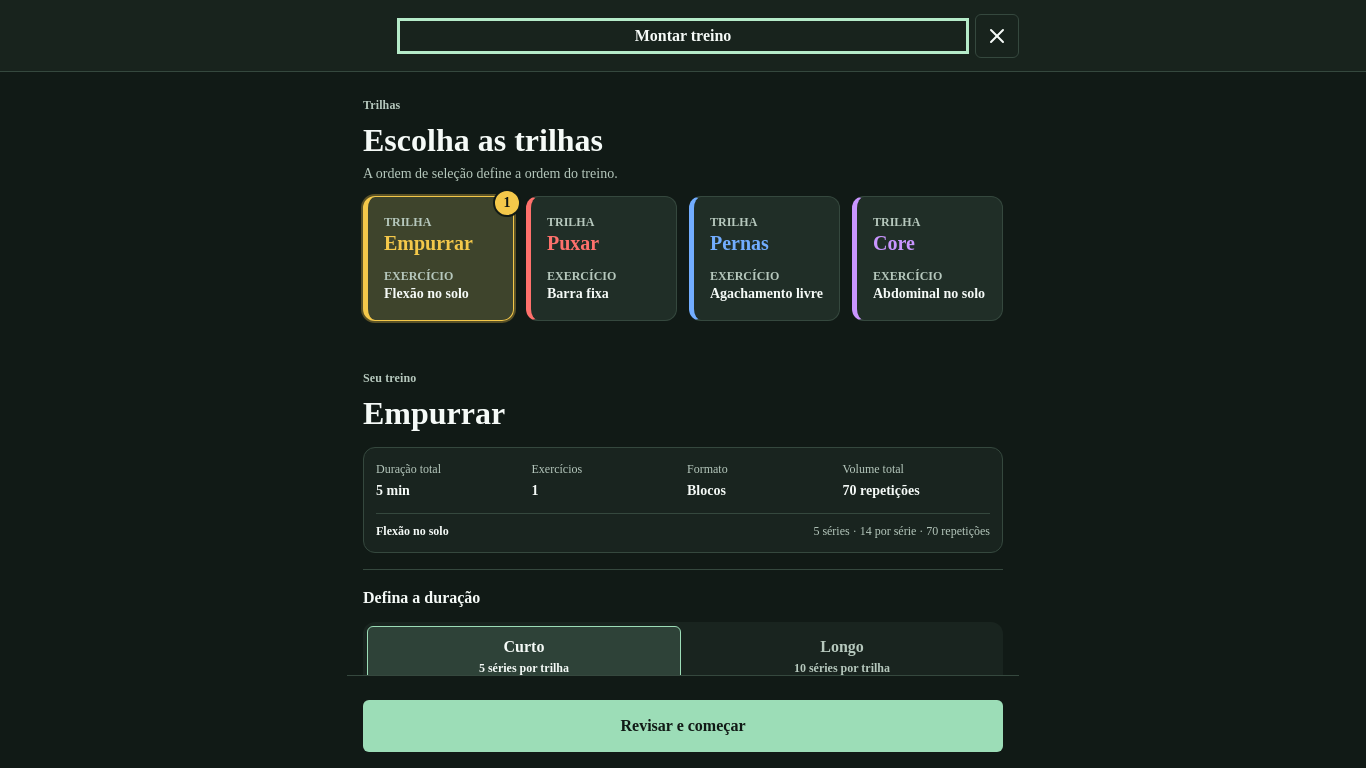
Test: WorkoutFlow › confirma, restaura foco ao fechar e inicia o cronômetro
The width and height of the screenshot is (1366, 768).
Click the button "Revisar e começar" at [683, 726], box [363,700,1003,752]
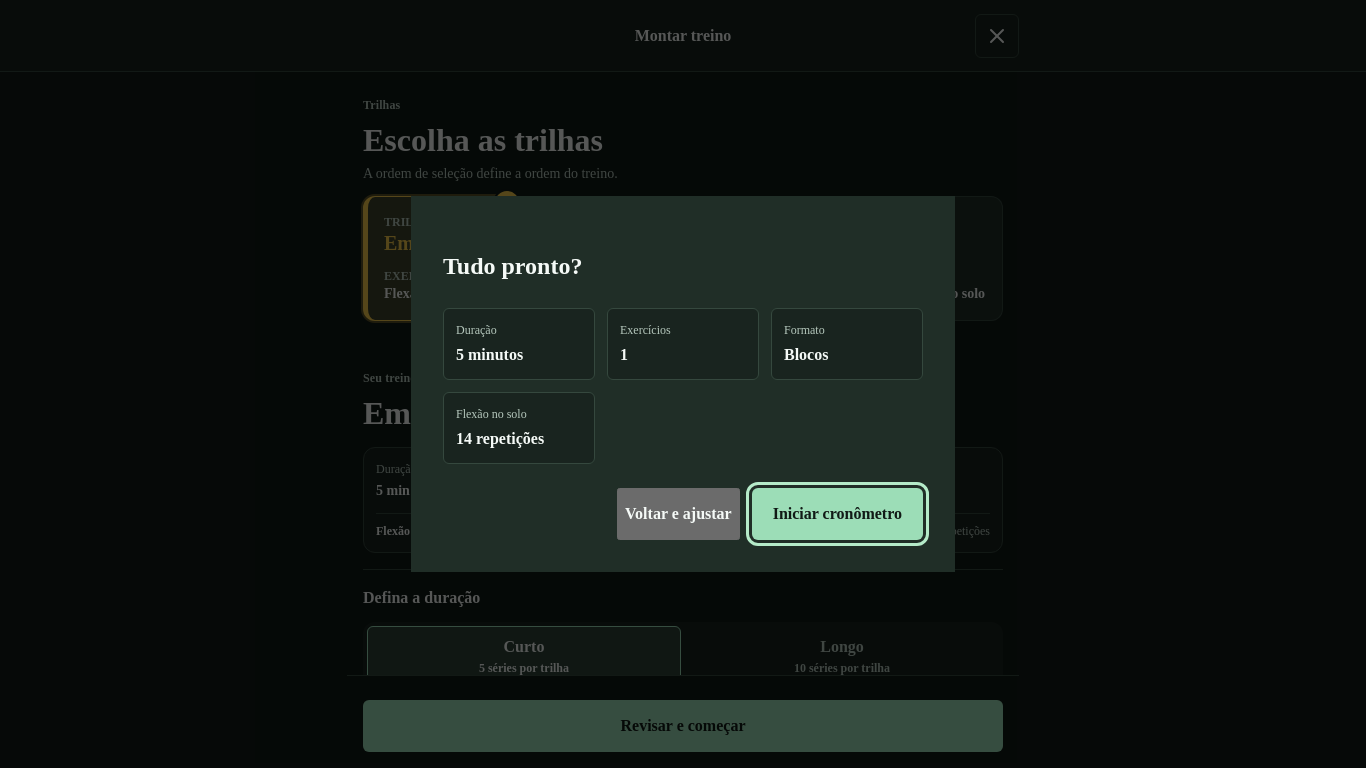
Press Escape
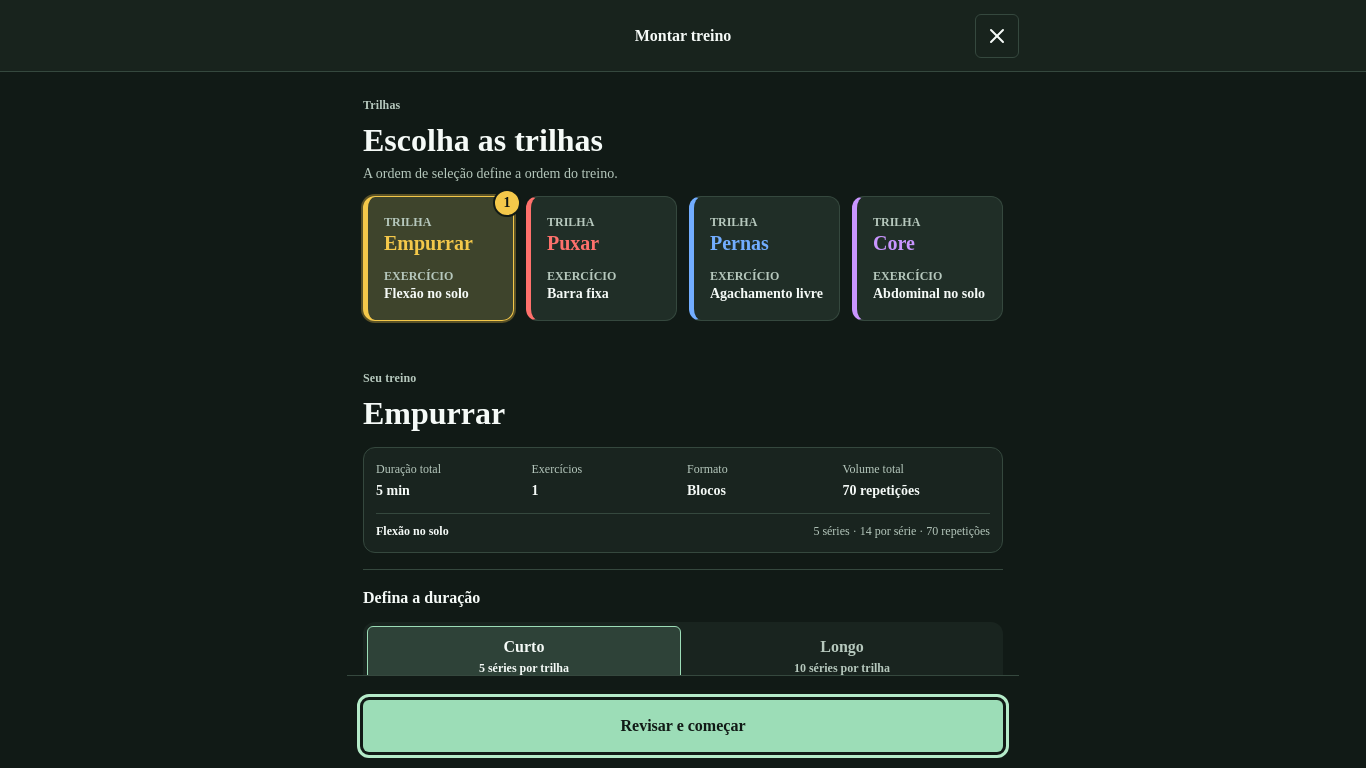
Click the button "Revisar e começar" at [683, 726], box [363,700,1003,752]
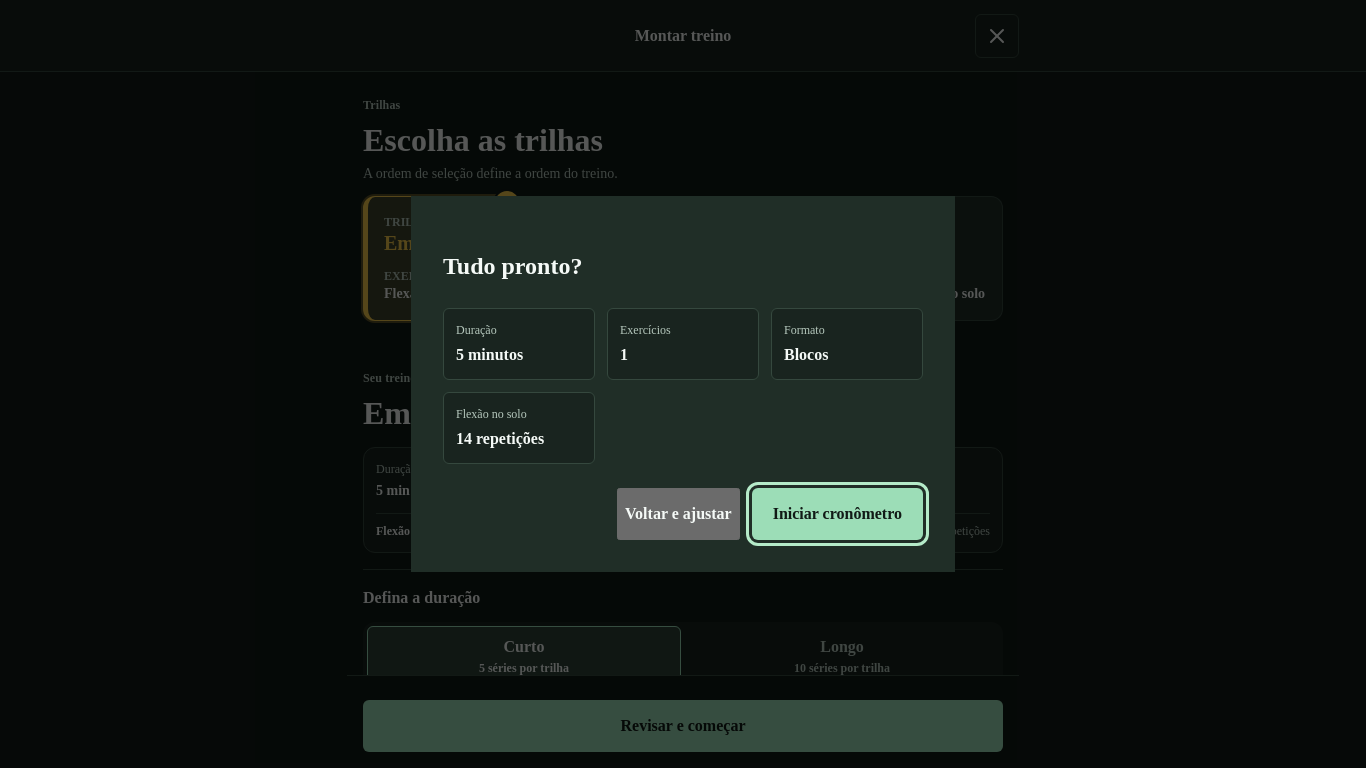
Click the button "Iniciar cronômetro" at [837, 514], box [752,488,923,540]
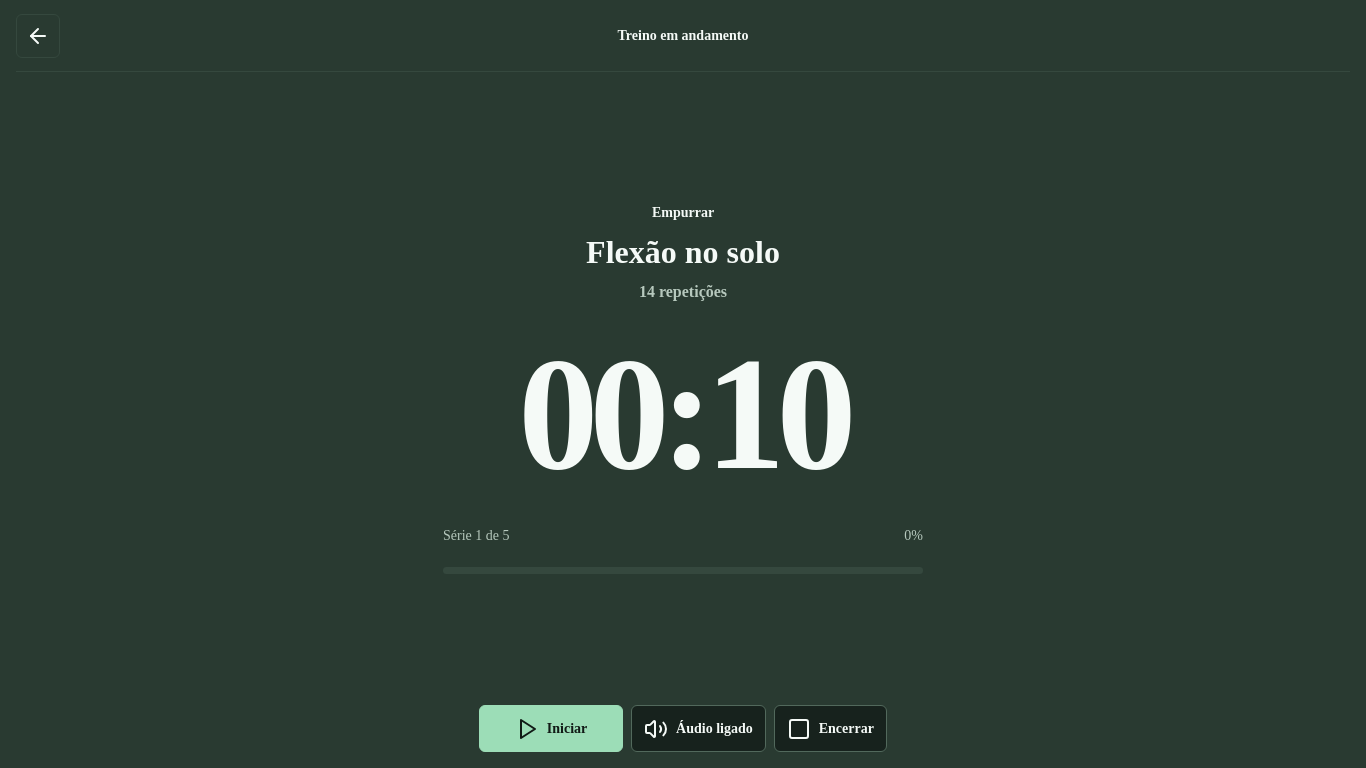
Expected: the dialog named "Cronômetro" is shown
